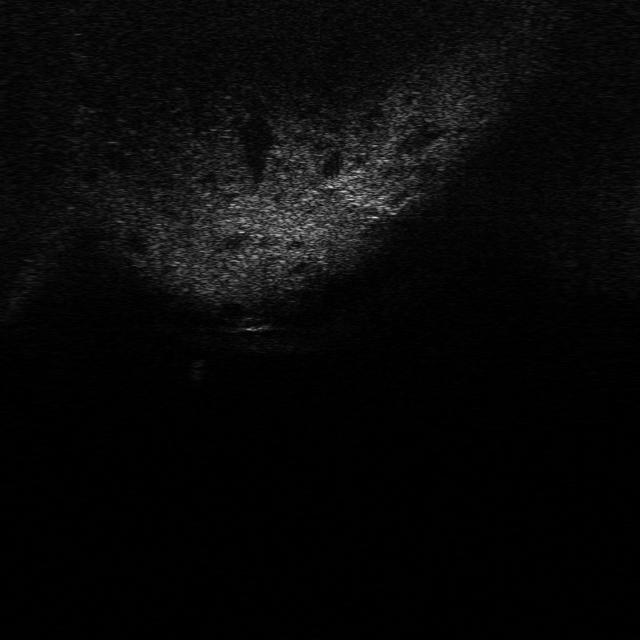cube: (227, 312, 276, 335)
cylinder: (184, 356, 206, 387)
